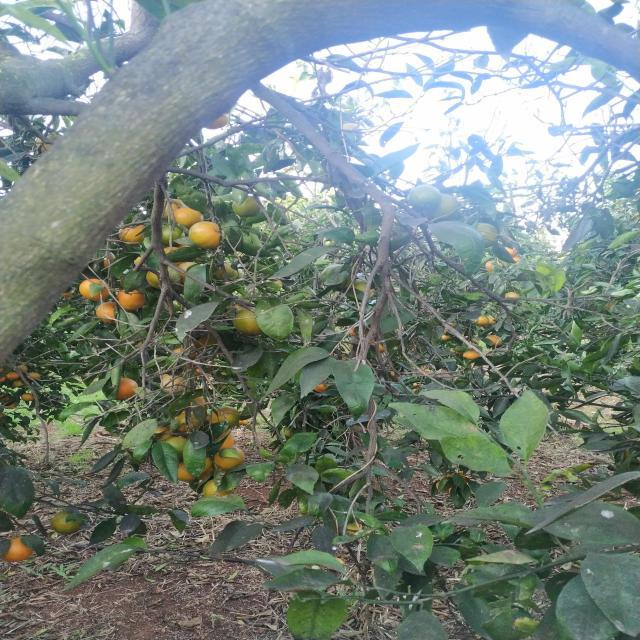Jeruk Belum Matang: (144, 266, 182, 289), (428, 193, 459, 221), (408, 185, 441, 211), (234, 308, 264, 335), (50, 510, 84, 532), (473, 222, 499, 248), (232, 195, 260, 217), (212, 407, 239, 428), (203, 478, 234, 496), (160, 223, 184, 246), (344, 281, 371, 301), (166, 437, 187, 462), (176, 412, 202, 432), (214, 263, 244, 280)
Jeruk Sudah Matang: (2, 536, 35, 562), (190, 222, 222, 248), (216, 446, 244, 471), (80, 278, 110, 300), (115, 289, 144, 310), (173, 208, 203, 226), (116, 378, 138, 398), (120, 225, 144, 242), (177, 461, 196, 482), (96, 302, 115, 322), (217, 428, 234, 448), (485, 260, 503, 272), (472, 314, 489, 326), (485, 335, 503, 346), (463, 350, 480, 360), (505, 246, 517, 258), (506, 292, 520, 298), (377, 343, 385, 352), (348, 328, 357, 336), (512, 256, 521, 262), (442, 335, 450, 340)
